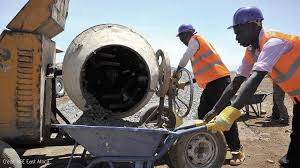helmet: (225, 6, 263, 25), (175, 22, 194, 34)
vest: (259, 34, 300, 101), (189, 39, 228, 83)
